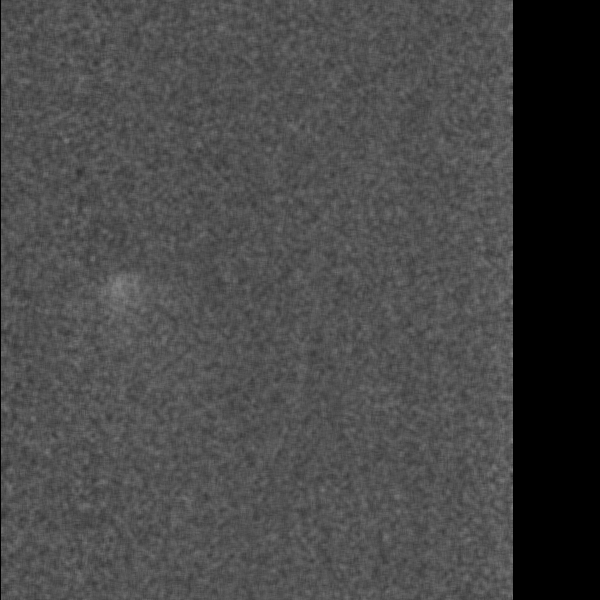spark: (104, 270, 135, 334)
